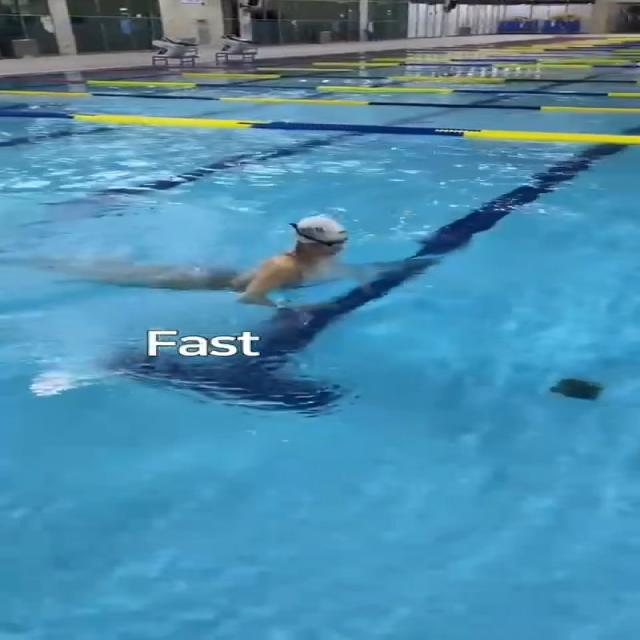Swimming: (0, 212, 399, 311)
